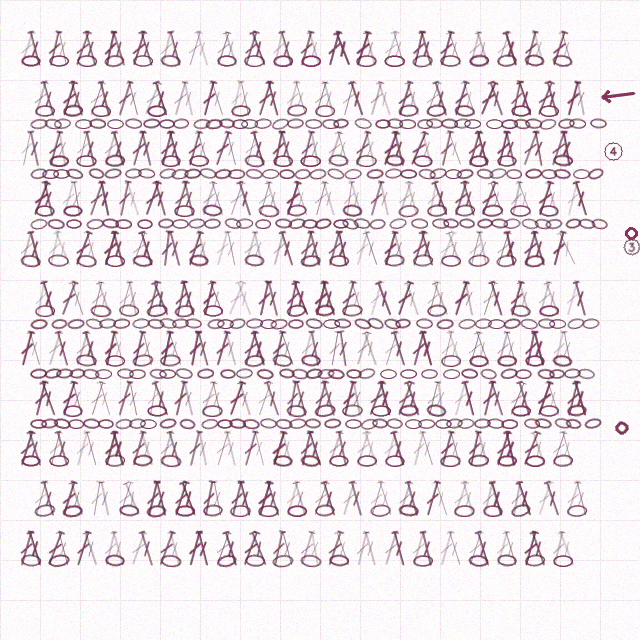chain: (510, 502, 532, 519), (216, 553, 238, 569), (146, 303, 168, 318), (132, 353, 154, 368), (314, 403, 336, 418), (34, 503, 56, 518), (48, 553, 70, 568), (286, 303, 307, 318), (272, 353, 293, 368), (426, 403, 447, 418), (258, 204, 280, 218), (90, 304, 112, 318), (160, 454, 182, 468), (160, 554, 182, 568), (272, 554, 294, 568), (300, 554, 322, 568), (104, 54, 125, 68), (160, 54, 181, 68), (412, 54, 433, 68), (552, 54, 573, 68), (454, 104, 475, 118), (244, 154, 265, 168), (398, 204, 419, 218), (20, 254, 41, 268), (76, 254, 97, 268), (132, 254, 153, 268), (300, 254, 321, 268), (496, 254, 517, 268), (524, 254, 545, 268), (174, 304, 195, 318), (510, 304, 531, 318), (244, 354, 265, 368), (552, 354, 573, 368), (286, 404, 307, 418), (300, 454, 321, 468), (62, 504, 83, 518), (146, 504, 167, 518), (468, 554, 489, 568), (468, 254, 490, 267), (366, 316, 385, 331), (524, 54, 545, 67), (398, 104, 419, 117), (426, 104, 447, 117), (328, 154, 349, 167), (202, 204, 223, 217), (342, 204, 363, 217), (482, 204, 503, 217), (48, 254, 69, 267), (244, 254, 265, 267), (384, 254, 405, 267), (342, 304, 363, 317), (76, 354, 97, 367), (160, 354, 181, 367), (342, 404, 363, 417), (468, 454, 489, 467), (370, 504, 391, 517), (398, 504, 419, 517), (587, 166, 605, 181), (271, 117, 290, 131), (65, 167, 84, 181), (326, 167, 345, 181), (341, 217, 360, 231), (353, 317, 372, 331), (383, 317, 402, 331), (360, 417, 379, 431), (469, 54, 489, 67), (497, 54, 517, 67), (63, 104, 83, 117), (287, 104, 307, 117), (105, 154, 125, 167), (385, 154, 405, 167), (553, 154, 573, 167), (287, 204, 307, 217), (427, 204, 447, 217), (455, 204, 475, 217), (189, 254, 209, 267), (413, 254, 433, 267), (119, 304, 139, 317), (315, 304, 335, 317), (427, 304, 447, 317), (301, 354, 321, 367), (399, 404, 419, 417), (567, 404, 587, 417), (105, 454, 125, 467), (133, 454, 153, 467), (553, 454, 573, 467), (119, 504, 139, 517), (203, 504, 223, 517), (315, 504, 335, 517), (21, 554, 41, 567), (105, 554, 125, 567), (245, 554, 265, 567), (329, 554, 349, 567), (497, 554, 517, 567), (525, 554, 545, 567), (244, 55, 265, 67), (356, 55, 377, 67), (384, 55, 405, 67), (440, 55, 461, 67), (539, 117, 557, 131), (76, 155, 97, 167), (300, 155, 321, 167), (356, 155, 377, 167), (174, 205, 195, 217), (510, 205, 531, 217), (85, 317, 103, 331), (202, 405, 223, 417), (440, 455, 461, 467), (230, 505, 251, 517), (258, 505, 279, 517), (454, 505, 475, 517), (21, 55, 41, 67), (49, 55, 69, 67), (77, 55, 97, 67), (133, 55, 153, 67), (217, 55, 237, 67), (273, 55, 293, 67), (301, 55, 321, 67), (35, 105, 55, 117), (91, 105, 111, 117), (147, 105, 167, 117), (231, 105, 251, 117), (315, 105, 335, 117), (511, 105, 531, 117), (539, 105, 559, 117), (49, 155, 69, 167), (161, 155, 181, 167), (189, 155, 209, 167), (273, 155, 293, 167), (413, 155, 433, 167), (469, 155, 489, 167), (497, 155, 517, 167), (35, 205, 55, 217), (63, 205, 83, 217), (539, 205, 559, 217), (105, 255, 125, 267), (329, 255, 349, 267), (441, 255, 461, 267), (35, 305, 55, 317), (203, 305, 223, 317), (539, 305, 559, 317), (105, 355, 125, 367), (441, 355, 461, 367), (469, 355, 489, 367), (497, 355, 517, 367), (525, 355, 545, 367), (63, 405, 83, 417), (147, 405, 167, 417), (371, 405, 391, 417), (511, 405, 531, 417), (539, 405, 559, 417), (21, 455, 41, 467), (49, 455, 69, 467), (273, 455, 293, 467), (329, 455, 349, 467), (357, 455, 377, 467), (385, 455, 405, 467), (497, 455, 517, 467), (525, 455, 545, 467), (175, 505, 195, 517), (287, 505, 307, 517), (483, 505, 503, 517), (567, 505, 587, 517), (413, 555, 433, 567), (553, 555, 573, 567), (354, 117, 372, 130), (30, 167, 48, 180), (104, 167, 122, 180), (159, 167, 177, 180), (199, 167, 217, 180), (429, 167, 447, 180), (489, 167, 507, 180), (224, 217, 242, 230), (288, 217, 306, 230), (314, 217, 332, 230), (353, 217, 371, 230), (389, 217, 407, 230), (159, 317, 177, 330), (305, 317, 323, 330), (503, 317, 521, 330), (567, 317, 585, 330), (44, 367, 62, 380), (175, 367, 193, 380), (305, 367, 323, 380), (358, 367, 376, 380), (500, 367, 518, 380), (53, 417, 71, 430), (159, 417, 177, 430), (534, 417, 552, 430), (554, 417, 572, 430), (584, 417, 602, 430), (88, 167, 105, 180), (565, 217, 582, 230), (229, 317, 246, 330), (30, 118, 48, 130), (44, 118, 62, 130), (193, 118, 211, 130), (205, 118, 223, 130), (513, 118, 531, 130), (171, 168, 189, 180), (214, 168, 232, 180), (245, 168, 263, 180), (309, 168, 327, 180), (344, 168, 362, 180), (366, 168, 384, 180), (418, 168, 436, 180), (456, 168, 474, 180), (476, 168, 494, 180), (553, 168, 571, 180), (30, 218, 48, 230), (47, 218, 65, 230), (86, 218, 104, 230), (521, 218, 539, 230), (534, 218, 552, 230), (545, 218, 563, 230), (578, 218, 596, 230), (30, 318, 48, 330), (67, 318, 85, 330), (147, 318, 165, 330), (207, 318, 225, 330), (270, 318, 288, 330), (436, 318, 454, 330), (458, 318, 476, 330), (520, 318, 538, 330), (82, 368, 100, 380), (149, 368, 167, 380), (256, 368, 274, 380), (291, 368, 309, 380), (317, 368, 335, 380), (327, 368, 345, 380), (537, 368, 555, 380), (577, 368, 595, 380), (115, 418, 133, 430), (201, 418, 219, 430), (242, 418, 260, 430), (275, 418, 293, 430), (294, 168, 311, 180), (369, 218, 386, 230), (591, 218, 608, 230), (51, 318, 68, 330), (480, 368, 497, 380), (179, 418, 196, 430), (565, 418, 582, 430), (254, 118, 272, 129), (188, 218, 206, 229), (503, 218, 521, 229), (132, 318, 150, 329), (582, 318, 600, 329), (457, 418, 475, 429), (54, 118, 71, 129), (89, 118, 106, 129), (125, 118, 142, 129), (143, 118, 160, 129), (287, 118, 304, 129), (426, 118, 443, 129), (441, 118, 458, 129), (454, 118, 471, 129), (525, 118, 542, 129), (558, 118, 575, 129), (569, 118, 586, 129), (590, 118, 607, 129), (125, 168, 142, 179), (138, 168, 155, 179), (184, 168, 201, 179), (385, 168, 402, 179), (525, 168, 542, 179), (102, 218, 119, 229), (204, 218, 221, 229), (236, 218, 253, 229), (275, 218, 292, 229), (411, 218, 428, 229), (432, 218, 449, 229), (491, 218, 508, 229), (99, 318, 116, 329), (113, 318, 130, 329), (172, 318, 189, 329), (185, 318, 202, 329), (246, 318, 263, 329), (334, 318, 351, 329), (416, 318, 433, 329), (475, 318, 492, 329), (538, 318, 555, 329), (30, 368, 47, 379), (56, 368, 73, 379), (69, 368, 86, 379), (117, 368, 134, 379), (197, 368, 214, 379), (236, 368, 253, 379), (461, 368, 478, 379), (564, 368, 581, 379), (41, 418, 58, 429), (83, 418, 100, 429), (129, 418, 146, 429), (229, 418, 246, 429), (260, 418, 277, 429), (289, 418, 306, 429), (324, 418, 341, 429), (386, 418, 403, 429), (446, 418, 463, 429), (474, 418, 491, 429), (487, 418, 504, 429), (173, 118, 189, 129), (219, 118, 235, 129), (333, 118, 349, 129), (387, 118, 403, 129), (158, 218, 174, 229), (443, 218, 459, 229), (459, 218, 475, 229), (477, 218, 493, 229), (395, 318, 411, 329), (279, 368, 295, 379), (305, 418, 321, 429), (372, 418, 388, 429), (524, 418, 540, 429), (75, 119, 92, 129), (107, 119, 124, 129), (241, 119, 258, 129), (305, 119, 322, 129), (322, 119, 339, 129), (399, 119, 416, 129), (464, 119, 481, 129), (486, 119, 503, 129), (501, 119, 518, 129), (42, 169, 59, 179), (53, 169, 70, 179), (228, 169, 245, 179), (262, 169, 279, 179), (400, 169, 417, 179), (445, 169, 462, 179), (573, 169, 590, 179), (115, 219, 132, 229), (172, 219, 189, 229), (217, 319, 234, 329), (260, 319, 277, 329), (323, 319, 340, 329), (488, 319, 505, 329), (549, 319, 566, 329), (95, 369, 112, 379), (129, 369, 146, 379), (159, 369, 176, 379), (380, 369, 397, 379), (400, 369, 417, 379), (421, 369, 438, 379), (443, 369, 460, 379), (515, 369, 532, 379), (30, 419, 47, 429), (140, 419, 157, 429), (345, 419, 362, 429), (405, 419, 422, 429), (418, 419, 435, 429), (435, 419, 452, 429), (501, 419, 518, 429), (159, 119, 175, 129), (232, 119, 248, 129), (375, 119, 391, 129), (417, 119, 433, 129), (279, 169, 295, 179), (506, 169, 522, 179), (541, 169, 557, 179), (66, 219, 82, 229), (137, 219, 153, 229), (255, 219, 271, 229), (302, 219, 318, 229), (333, 219, 349, 229), (288, 319, 304, 329), (220, 369, 236, 379), (346, 369, 362, 379), (549, 369, 565, 379), (68, 419, 84, 429), (98, 419, 114, 429), (217, 419, 233, 429)
double: (554, 230, 580, 267), (140, 80, 165, 117), (476, 80, 501, 117), (406, 130, 431, 167), (224, 280, 249, 317), (120, 480, 145, 517), (331, 30, 355, 67), (533, 80, 557, 117), (29, 180, 53, 217), (477, 180, 501, 217), (51, 230, 75, 267), (71, 230, 95, 267), (435, 230, 459, 267), (57, 280, 81, 317), (149, 280, 173, 317), (289, 280, 313, 317), (429, 280, 453, 317), (149, 380, 173, 417), (393, 380, 417, 417), (505, 380, 529, 417), (519, 430, 543, 467), (43, 530, 67, 567), (247, 530, 271, 567), (555, 530, 579, 567), (71, 30, 94, 67), (247, 30, 270, 67), (443, 30, 466, 67), (85, 80, 108, 117), (373, 80, 396, 117), (421, 80, 444, 117), (485, 80, 508, 117), (211, 130, 234, 167), (323, 130, 346, 167), (351, 130, 374, 167), (379, 130, 402, 167), (443, 130, 466, 167), (519, 130, 542, 167), (547, 130, 570, 167), (85, 180, 108, 217), (141, 180, 164, 217), (225, 180, 248, 217), (429, 180, 452, 217), (485, 180, 508, 217), (513, 180, 536, 217), (127, 230, 150, 267), (443, 230, 466, 267), (93, 280, 116, 317), (205, 280, 228, 317), (233, 280, 256, 317), (373, 280, 396, 317), (393, 280, 416, 317), (401, 280, 424, 317), (541, 280, 564, 317), (163, 330, 186, 367), (359, 330, 382, 367), (471, 330, 494, 367), (37, 380, 60, 417), (197, 380, 220, 417), (225, 380, 248, 417), (253, 380, 276, 417), (261, 380, 284, 417), (365, 380, 388, 417), (533, 380, 556, 417), (547, 430, 570, 467), (177, 480, 200, 517), (309, 480, 332, 517), (449, 480, 472, 517), (513, 480, 536, 517), (541, 480, 564, 517), (127, 530, 150, 567), (155, 530, 178, 567), (211, 530, 234, 567), (239, 530, 262, 567), (331, 530, 354, 567), (527, 530, 550, 567), (16, 30, 38, 67), (108, 30, 130, 67), (128, 30, 150, 67), (212, 30, 234, 67), (220, 30, 242, 67), (240, 30, 262, 67), (352, 30, 374, 67), (380, 30, 402, 67), (472, 30, 494, 67), (492, 30, 514, 67), (500, 30, 522, 67), (548, 30, 570, 67), (58, 80, 80, 117), (66, 80, 88, 117), (114, 80, 136, 117), (150, 80, 172, 117), (206, 80, 228, 117), (254, 80, 276, 117), (346, 80, 368, 117), (394, 80, 416, 117), (402, 80, 424, 117), (430, 80, 452, 117), (450, 80, 472, 117), (458, 80, 480, 117), (514, 80, 536, 117), (122, 180, 144, 217), (170, 180, 192, 217), (198, 180, 220, 217), (206, 180, 228, 217), (234, 180, 256, 217), (262, 180, 284, 217), (282, 180, 304, 217), (290, 180, 312, 217), (318, 180, 340, 217), (394, 180, 416, 217), (450, 180, 472, 217), (534, 180, 556, 217), (570, 180, 592, 217), (184, 230, 206, 267), (276, 230, 298, 267), (360, 230, 382, 267), (408, 230, 430, 267), (416, 230, 438, 267), (492, 230, 514, 267), (528, 230, 550, 267), (66, 280, 88, 317), (318, 280, 340, 317), (450, 280, 472, 317), (478, 280, 500, 317), (44, 330, 66, 367), (248, 330, 270, 367), (276, 330, 298, 367), (352, 330, 374, 367), (380, 330, 402, 367), (388, 330, 410, 367), (444, 330, 466, 367), (58, 380, 80, 417), (86, 380, 108, 417), (234, 380, 256, 417), (318, 380, 340, 417), (402, 380, 424, 417), (486, 380, 508, 417), (542, 380, 564, 417), (16, 430, 38, 467), (24, 430, 46, 467), (136, 430, 158, 467), (268, 430, 290, 467), (304, 430, 326, 467), (324, 430, 346, 467), (352, 430, 374, 467), (360, 430, 382, 467), (416, 430, 438, 467), (492, 430, 514, 467), (528, 430, 550, 467), (58, 480, 80, 517), (66, 480, 88, 517), (114, 480, 136, 517), (170, 480, 192, 517), (254, 480, 276, 517), (262, 480, 284, 517), (318, 480, 340, 517), (338, 480, 360, 517), (374, 480, 396, 517), (394, 480, 416, 517), (430, 480, 452, 517), (534, 480, 556, 517), (562, 480, 584, 517), (24, 530, 46, 567), (72, 530, 94, 567), (80, 530, 102, 567), (136, 530, 158, 567), (220, 530, 242, 567), (296, 530, 318, 567), (324, 530, 346, 567), (380, 530, 402, 567), (464, 530, 486, 567), (472, 530, 494, 567), (80, 30, 101, 67), (136, 30, 157, 67), (184, 30, 205, 67), (192, 30, 213, 67), (276, 30, 297, 67), (296, 30, 317, 67), (304, 30, 325, 67), (324, 30, 345, 67), (360, 30, 381, 67), (388, 30, 409, 67), (416, 30, 437, 67), (436, 30, 457, 67), (556, 30, 577, 67), (30, 80, 51, 117), (38, 80, 59, 117), (170, 80, 191, 117), (282, 80, 303, 117), (290, 80, 311, 117), (310, 80, 331, 117), (338, 80, 359, 117), (366, 80, 387, 117), (542, 80, 563, 117), (100, 130, 121, 167), (108, 130, 129, 167), (128, 130, 149, 167), (164, 130, 185, 167), (184, 130, 205, 167), (192, 130, 213, 167), (248, 130, 269, 167), (276, 130, 297, 167), (332, 130, 353, 167), (464, 130, 485, 167), (472, 130, 493, 167), (58, 180, 79, 217), (150, 180, 171, 217), (254, 180, 275, 217), (310, 180, 331, 217), (346, 180, 367, 217), (366, 180, 387, 217), (402, 180, 423, 217), (458, 180, 479, 217), (542, 180, 563, 217), (16, 230, 37, 267), (100, 230, 121, 267), (108, 230, 129, 267), (136, 230, 157, 267), (212, 230, 233, 267), (240, 230, 261, 267), (324, 230, 345, 267), (352, 230, 373, 267), (380, 230, 401, 267), (520, 230, 541, 267), (38, 280, 59, 317), (178, 280, 199, 317), (338, 280, 359, 317), (346, 280, 367, 317), (366, 280, 387, 317), (486, 280, 507, 317), (506, 280, 527, 317), (514, 280, 535, 317), (534, 280, 555, 317), (562, 280, 583, 317), (570, 280, 591, 317), (24, 330, 45, 367), (52, 330, 73, 367), (72, 330, 93, 367), (80, 330, 101, 367), (108, 330, 129, 367), (212, 330, 233, 367), (240, 330, 261, 367), (464, 330, 485, 367), (94, 380, 115, 417), (114, 380, 135, 417), (450, 380, 471, 417), (514, 380, 535, 417), (570, 380, 591, 417), (52, 430, 73, 467), (72, 430, 93, 467), (108, 430, 129, 467), (128, 430, 149, 467), (156, 430, 177, 467), (164, 430, 185, 467), (212, 430, 233, 467), (240, 430, 261, 467), (380, 430, 401, 467), (388, 430, 409, 467), (30, 480, 51, 517), (38, 480, 59, 517), (282, 480, 303, 517), (290, 480, 311, 517), (346, 480, 367, 517), (366, 480, 387, 517), (402, 480, 423, 517), (422, 480, 443, 517), (458, 480, 479, 517), (486, 480, 507, 517), (16, 530, 37, 567), (108, 530, 129, 567), (360, 530, 381, 567), (408, 530, 429, 567), (436, 530, 457, 567), (444, 530, 465, 567), (492, 530, 513, 567), (500, 530, 521, 567), (520, 530, 541, 567), (25, 30, 45, 67), (165, 30, 185, 67), (465, 30, 485, 67), (521, 30, 541, 67), (529, 30, 549, 67), (95, 80, 115, 117), (123, 80, 143, 117), (199, 80, 219, 117), (263, 80, 283, 117), (319, 80, 339, 117), (563, 80, 583, 117), (45, 130, 65, 167), (157, 130, 177, 167), (221, 130, 241, 167), (241, 130, 261, 167), (297, 130, 317, 167), (389, 130, 409, 167), (417, 130, 437, 167), (493, 130, 513, 167), (179, 180, 199, 217), (563, 180, 583, 217), (25, 230, 45, 267), (81, 230, 101, 267), (165, 230, 185, 267), (193, 230, 213, 267), (269, 230, 289, 267), (297, 230, 317, 267), (305, 230, 325, 267), (389, 230, 409, 267), (465, 230, 485, 267), (549, 230, 569, 267), (87, 280, 107, 317), (115, 280, 135, 317), (143, 280, 163, 317), (199, 280, 219, 317), (263, 280, 283, 317), (311, 280, 331, 317), (423, 280, 443, 317), (17, 330, 37, 367), (137, 330, 157, 367), (193, 330, 213, 367), (221, 330, 241, 367), (297, 330, 317, 367), (409, 330, 429, 367), (417, 330, 437, 367), (437, 330, 457, 367), (493, 330, 513, 367), (501, 330, 521, 367), (529, 330, 549, 367), (549, 330, 569, 367), (31, 380, 51, 417), (67, 380, 87, 417), (291, 380, 311, 417), (311, 380, 331, 417), (339, 380, 359, 417), (375, 380, 395, 417), (423, 380, 443, 417), (459, 380, 479, 417), (479, 380, 499, 417), (563, 380, 583, 417), (45, 430, 65, 467), (81, 430, 101, 467), (101, 430, 121, 467), (185, 430, 205, 467), (221, 430, 241, 467), (249, 430, 269, 467), (277, 430, 297, 467), (409, 430, 429, 467), (437, 430, 457, 467), (445, 430, 465, 467), (473, 430, 493, 467), (557, 430, 577, 467), (143, 480, 163, 517), (151, 480, 171, 517), (227, 480, 247, 517), (235, 480, 255, 517), (571, 480, 591, 517), (53, 530, 73, 567), (165, 530, 185, 567), (185, 530, 205, 567), (193, 530, 213, 567), (277, 530, 297, 567), (389, 530, 409, 567), (417, 530, 437, 567), (45, 30, 64, 67), (53, 30, 72, 67), (101, 30, 120, 67), (157, 30, 176, 67), (269, 30, 288, 67), (409, 30, 428, 67), (179, 80, 198, 117), (227, 80, 246, 117), (235, 80, 254, 117), (507, 80, 526, 117), (17, 130, 36, 167), (25, 130, 44, 167), (73, 130, 92, 167), (81, 130, 100, 167), (137, 130, 156, 167), (269, 130, 288, 167), (361, 130, 380, 167), (437, 130, 456, 167), (501, 130, 520, 167), (39, 180, 58, 217), (115, 180, 134, 217), (375, 180, 394, 217), (507, 180, 526, 217), (45, 230, 64, 267), (249, 230, 268, 267), (333, 230, 352, 267), (501, 230, 520, 267), (255, 280, 274, 317), (283, 280, 302, 317), (101, 330, 120, 367), (129, 330, 148, 367), (269, 330, 288, 367), (171, 380, 190, 417), (179, 380, 198, 417), (207, 380, 226, 417), (297, 430, 316, 467), (333, 430, 352, 467), (465, 430, 484, 467), (501, 430, 520, 467), (479, 480, 498, 517), (101, 530, 120, 567), (269, 530, 288, 567), (353, 530, 372, 567), (549, 530, 568, 567), (572, 80, 590, 117), (306, 130, 324, 167), (96, 180, 114, 217), (424, 180, 442, 217), (222, 230, 240, 267), (474, 230, 492, 267), (32, 280, 50, 317), (124, 280, 142, 317), (172, 280, 190, 317), (460, 280, 478, 317), (158, 330, 176, 367), (186, 330, 204, 367), (306, 330, 324, 367), (522, 330, 540, 367), (558, 330, 576, 367), (124, 380, 142, 417), (144, 380, 162, 417), (348, 380, 366, 417), (194, 430, 212, 467), (96, 480, 114, 517), (200, 480, 218, 517), (208, 480, 226, 517), (508, 480, 526, 517), (306, 530, 324, 567), (54, 130, 71, 167), (530, 130, 547, 167), (558, 130, 575, 167), (68, 180, 85, 217), (326, 330, 343, 367), (284, 380, 301, 417), (88, 480, 105, 517), (341, 180, 357, 217), (159, 230, 175, 267), (335, 330, 351, 367), (433, 380, 448, 417)
noise: (598, 86, 636, 104), (602, 140, 625, 163), (621, 236, 640, 258), (613, 419, 631, 437), (623, 225, 639, 241)
